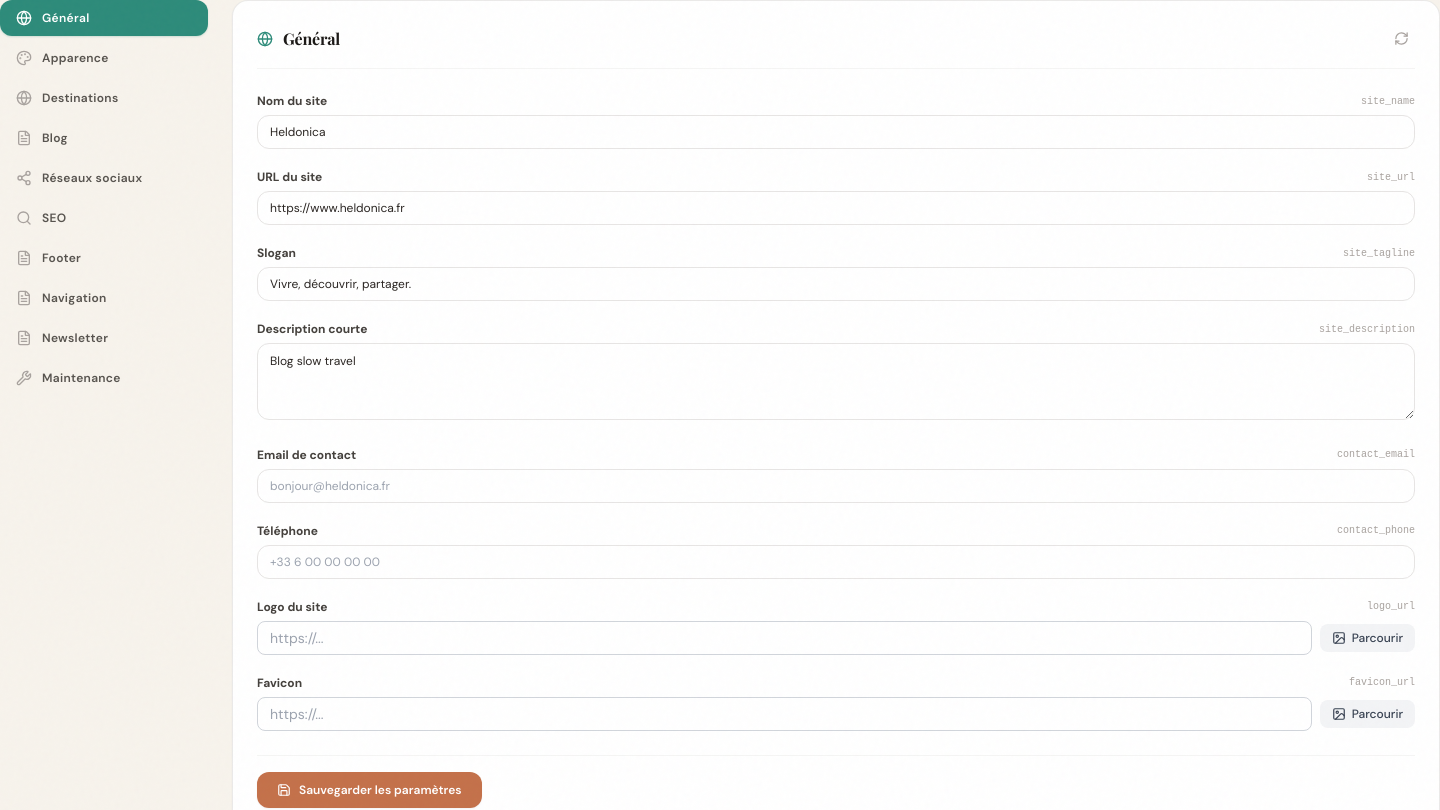
CmsSettingsPanel › switches group when clicking a sidebar tab
Click the button "Réseaux sociaux" at (104, 178), box [0, 160, 208, 196]
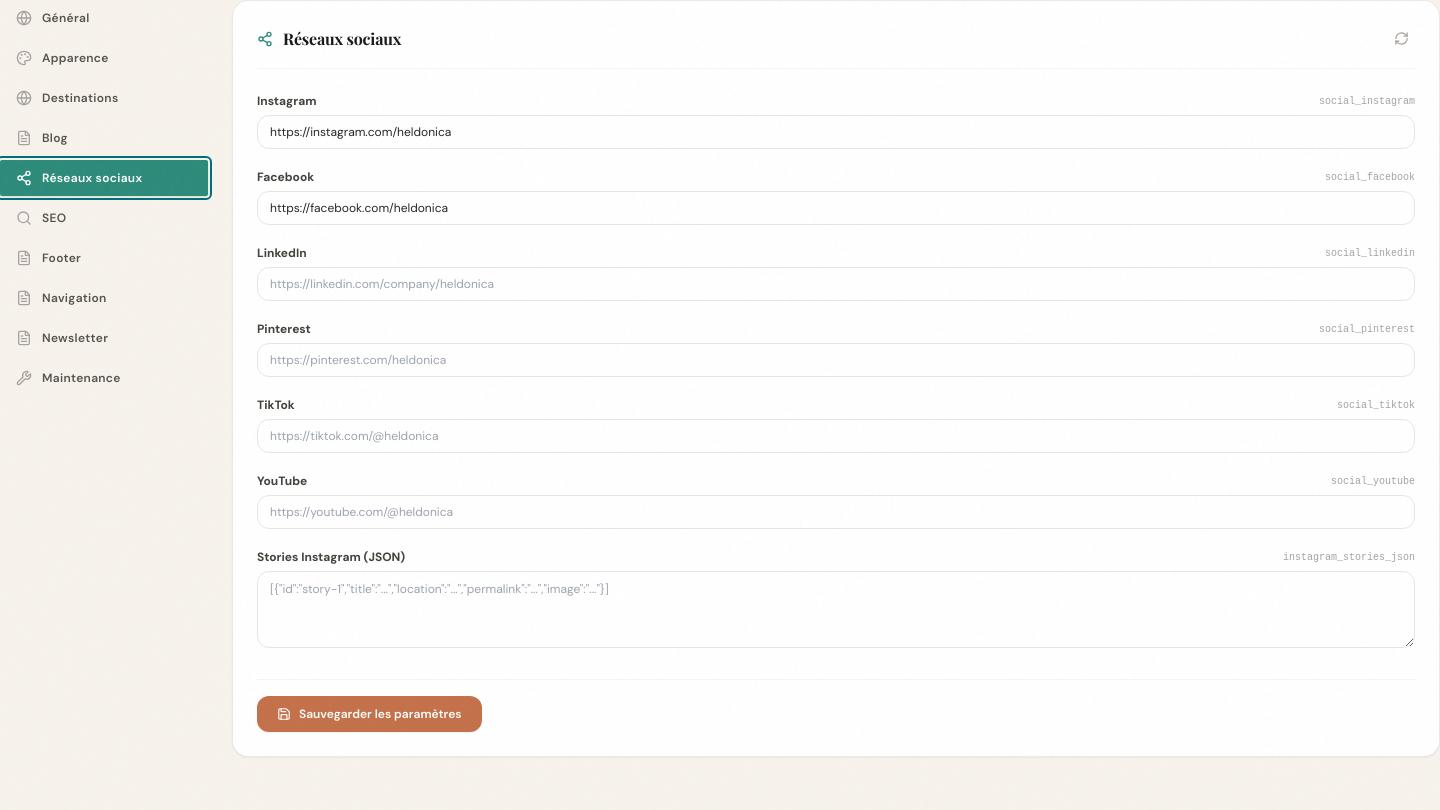
Expected: the field showing "https://instagram.com/heldonica" below "social_instagram" is shown, [257, 115, 1415, 149]
